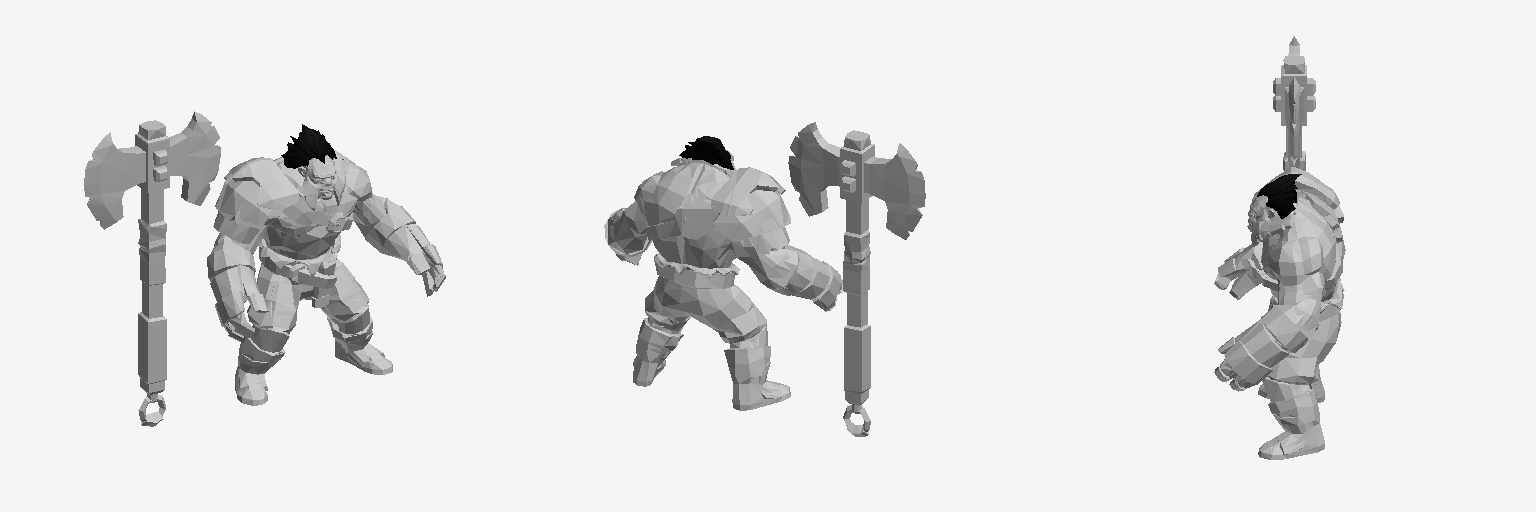
3 views of the same model, side by side, from view 1: azimuth 30°, elevation 25°; view 2: azimuth 150°, elevation 25°; view 3: azimuth 270°, elevation 25° (orthographic).
Visible parts, largest first — view 1: <SMD_root>; view 2: <SMD_root>; view 3: <SMD_root>.
Boxes of the visible parts, x1,y1,x2,y2 form: <SMD_root>: [84, 111, 445, 426]; <SMD_root>: [604, 122, 925, 436]; <SMD_root>: [1214, 36, 1345, 459].
Size of the model in its own units: 243 by 215 by 83.88.
Materials: 5 (1 with a texture image).